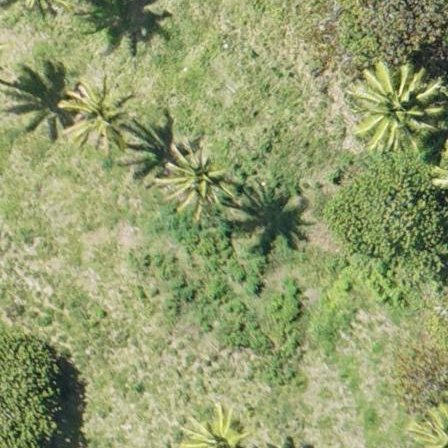palm_tree: (355, 68, 429, 146), (61, 83, 127, 148), (165, 144, 222, 207)
